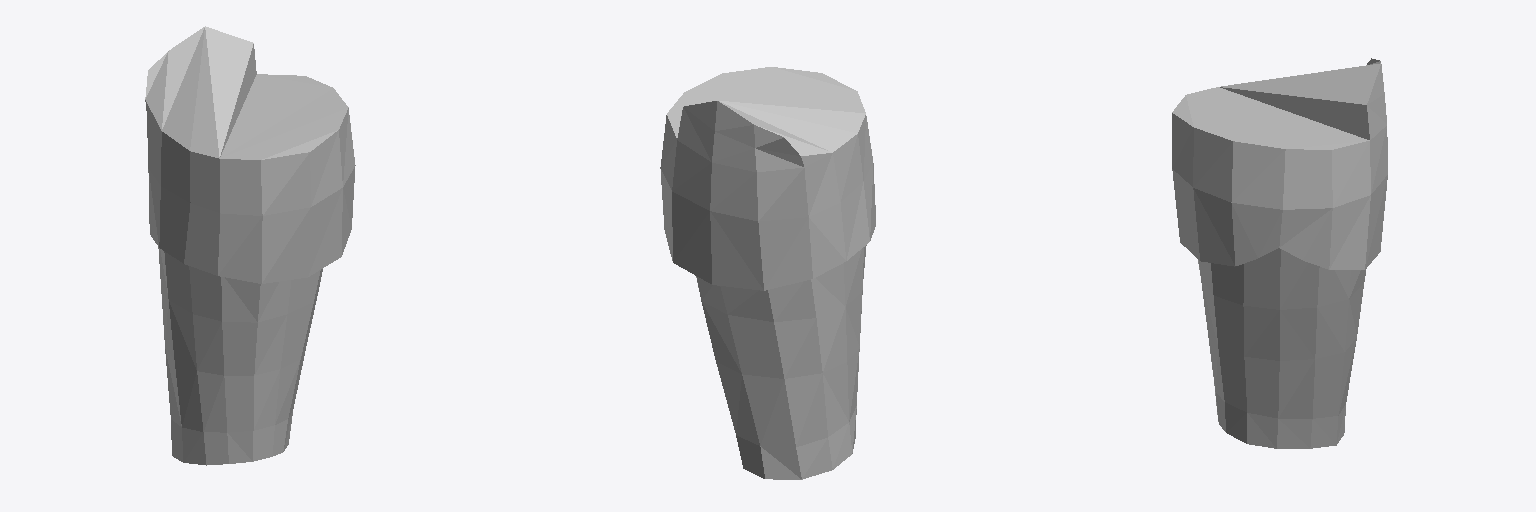
File: qiqi_muslo_der.obj
3 renders of one model, left to right at view 1: azimuth 30°, elevation 25°; view 2: azimuth 150°, elevation 25°; view 3: azimuth 270°, elevation 25°, orthographic.
Parts seen in each view (by area): view 1: 七七_mesh_七七.005; view 2: 七七_mesh_七七.005; view 3: 七七_mesh_七七.005.
Part boxes in pixels (x1,y1,x2,y2): 七七_mesh_七七.005: (145, 26, 355, 465); 七七_mesh_七七.005: (660, 67, 875, 479); 七七_mesh_七七.005: (1172, 58, 1387, 448).
Bounding box in the file's own units: 1.54 × 3.24 × 1.65.